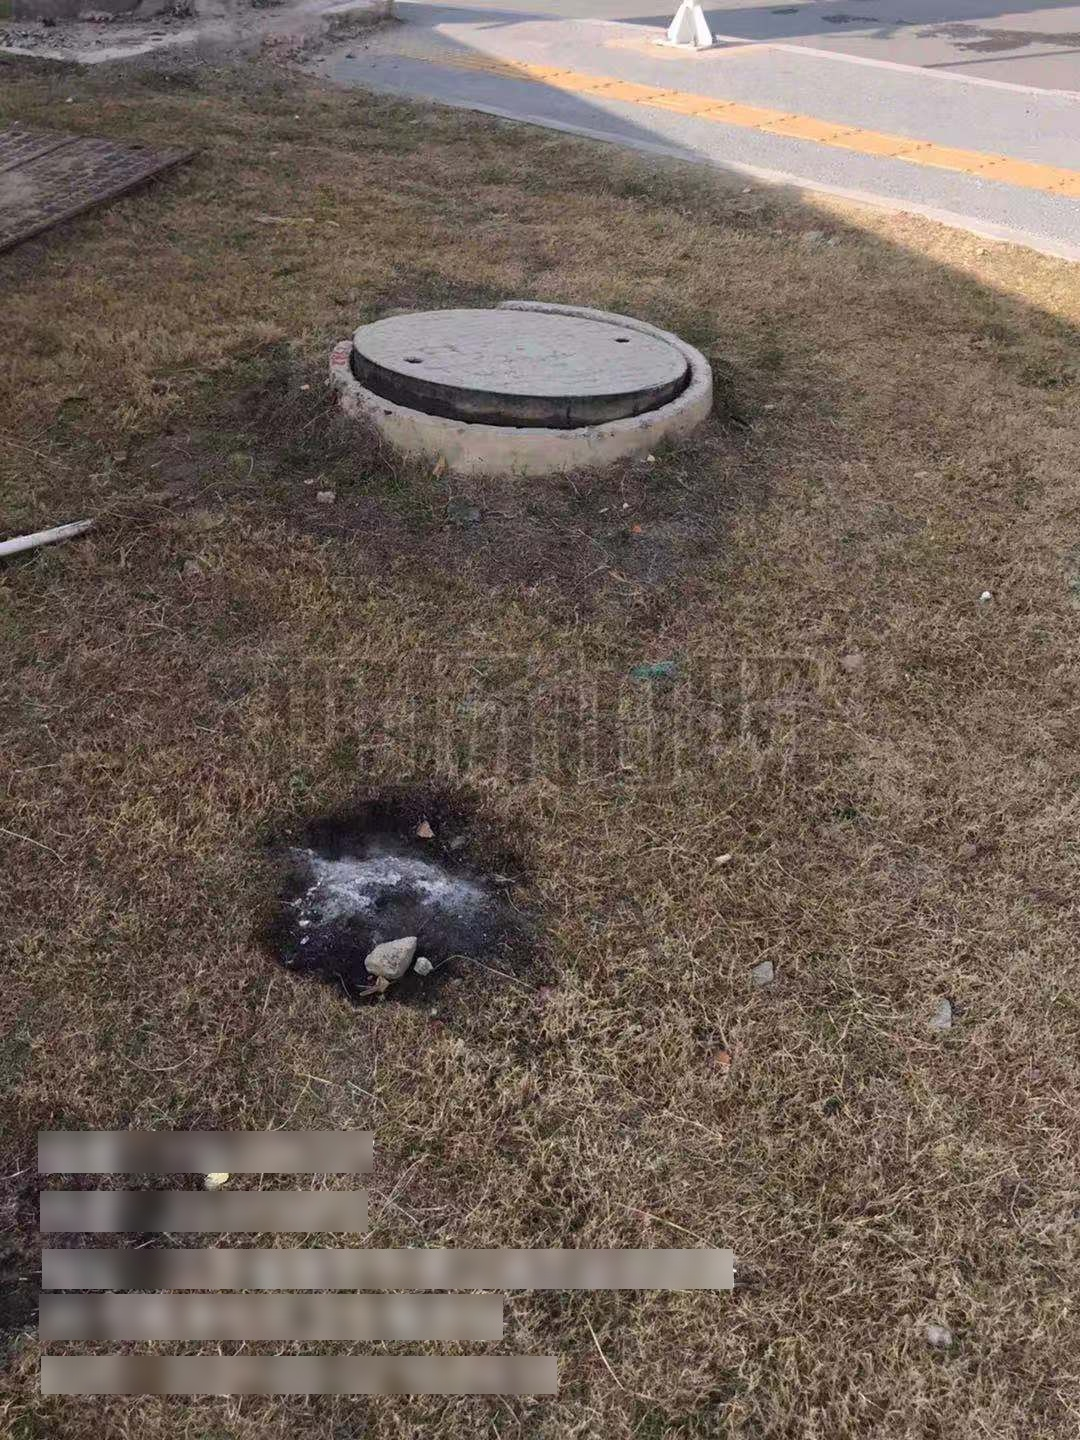uncovered: (331, 300, 709, 450)
